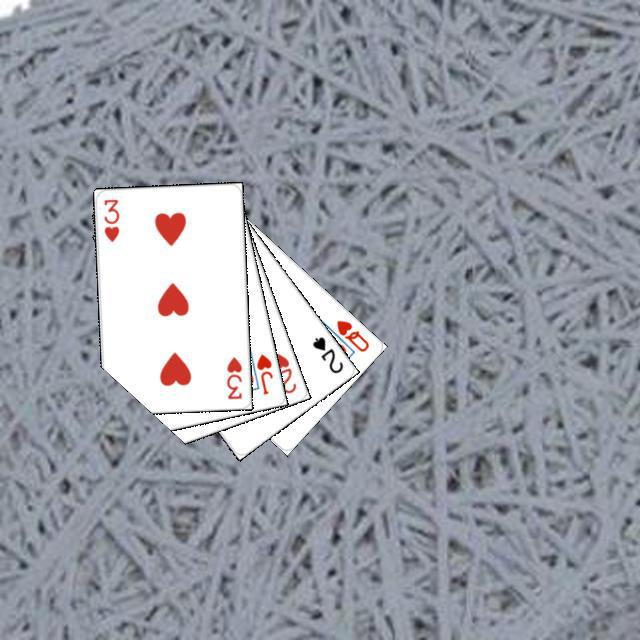2h: (269, 348, 298, 395)
2s: (307, 331, 345, 375)
3h: (99, 194, 121, 244), (221, 352, 243, 401)
Jh: (252, 349, 275, 396)
Qh: (331, 315, 371, 353)
